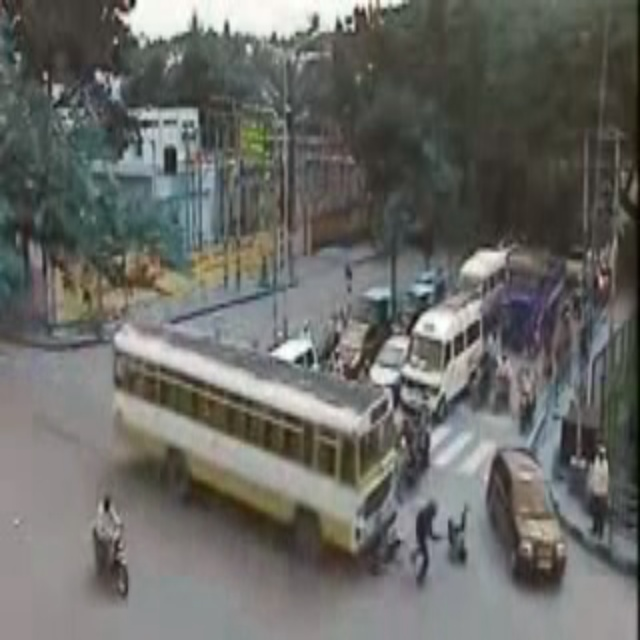acc: (334, 393, 472, 590)
